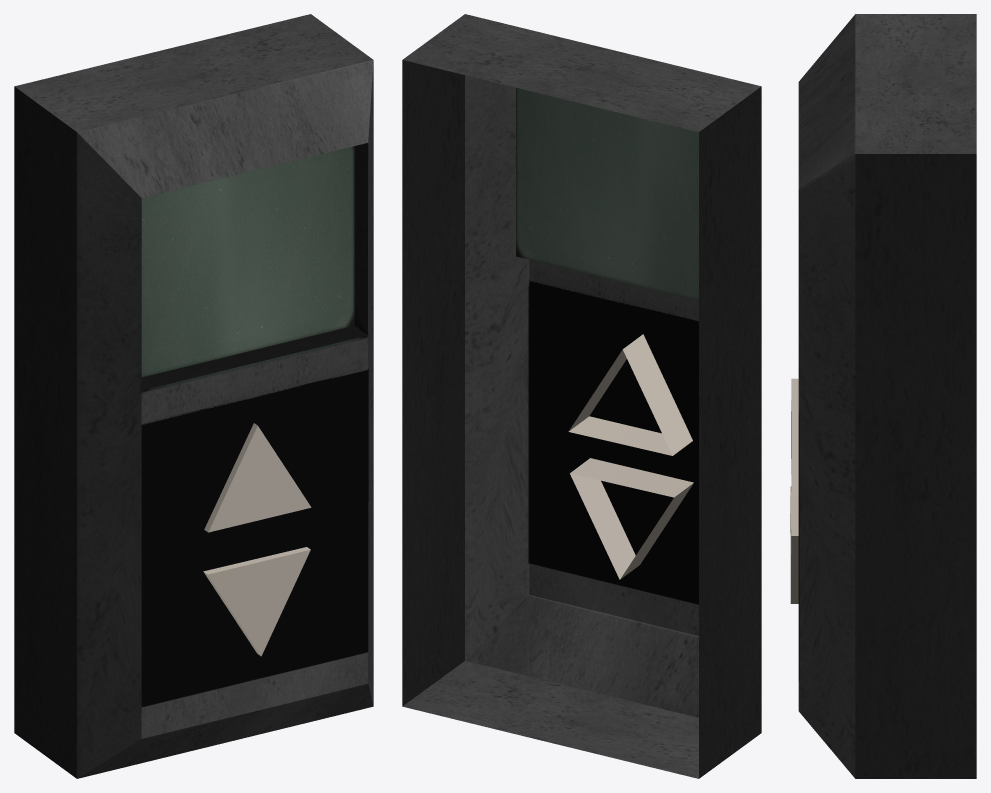
Rendered from ButtonElevator.fbx.
The picture shows the model from 3 angles, left to right: view 1: azimuth 30°, elevation 25°; view 2: azimuth 150°, elevation 25°; view 3: azimuth 270°, elevation 25°; orthographic projection. The views are drawn at different scales.
Visible parts, largest first — view 1: ROOT (×2); view 2: ROOT (×2); view 3: ROOT.
Boxes of the visible parts, <box> form: ROOT (×2): <box>14,14,373,778</box>; ROOT (×2): <box>402,14,761,778</box>; ROOT: <box>790,14,976,778</box>.
Bounding box in the file's own units: 2.77 × 5.77 × 1.56.
